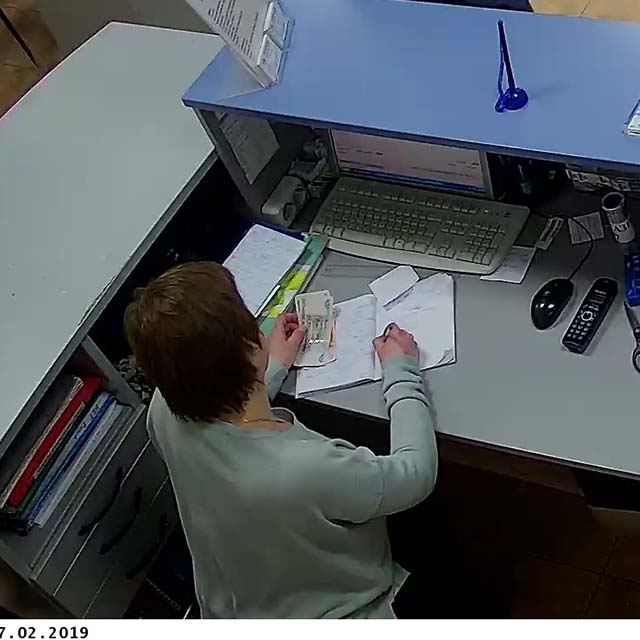banknotes: (295, 290, 339, 369)
